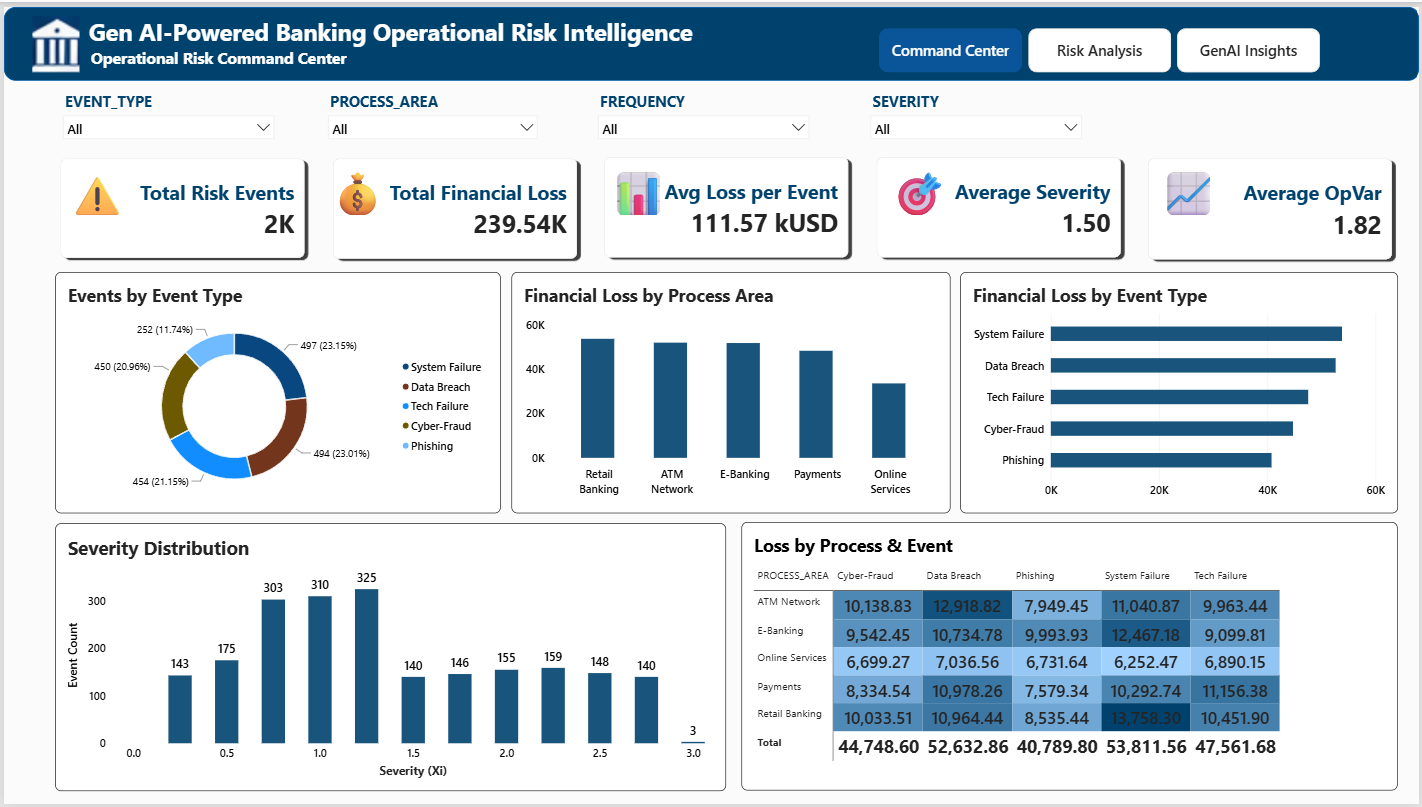

What the dashboard file says about the page in this screenshot:
{"tool":"powerbi","page":{"name":"Command Center","canvas":[1920,1080],"ordinal":0},"visuals":[{"type":"shape","box":[0,0,1920,100],"z":0},{"type":"textbox","box":[0,11.7,1920,88.3],"z":1000},{"type":"image","box":[13.3,11.7,113.3,76.7],"z":2000},{"type":"pageNavigator","box":[1186.7,28.3,600,60],"z":3000},{"type":"slicer","fields":{"Values":["operational risk.EVENT_TYPE"]},"box":[73.7,111.5,300.2,70.1],"z":4000},{"type":"slicer","fields":{"Values":["operational risk.PROCESS_AREA"]},"box":[431.5,111.5,298.4,70.1],"z":5000},{"type":"slicer","fields":{"Values":["operational risk.FREQUENCY_NK"]},"box":[798.2,111.5,300.2,70.1],"z":6000},{"type":"slicer","fields":{"Values":["operational risk.SEVERITY_XI"]},"box":[1168.5,111.5,300.2,70.1],"z":7000},{"type":"cardVisual","fields":{"Data":["operational risk.Total Risk Events"]},"box":[70.1,198,345,149.2],"z":8000},{"type":"cardVisual","fields":{"Data":["operational risk.Total Financial Loss"]},"box":[438.7,197.5,345,150],"z":9000},{"type":"cardVisual","fields":{"Data":["operational risk.Average Severity"]},"box":[1175.7,197,345,150],"z":10000},{"type":"cardVisual","fields":{"Data":["operational risk.Average OpVar"]},"box":[1544.3,197.8,345.2,151],"z":11000},{"type":"cardVisual","fields":{"Data":["operational risk.Average Loss per Event"]},"box":[807.2,196.4,345,150],"z":12000},{"type":"donutChart","title":"Events by Event Type","fields":{"Category":["operational risk.EVENT_TYPE"],"Y":["CountNonNull(operational risk.SCENARIO_ID)"]},"box":[70.1,359.6,604,327.2],"z":13000},{"type":"clusteredBarChart","title":"Financial Loss by Event Type","fields":{"Category":["operational risk.EVENT_TYPE"],"Y":["Sum(operational risk.LOSS_AMOUNT_KUSD)"]},"box":[1296.2,359.6,593.3,327.2],"z":14000},{"type":"clusteredColumnChart","title":"Financial Loss by Process Area","fields":{"Category":["operational risk.PROCESS_AREA"],"Y":["Sum(operational risk.LOSS_AMOUNT_KUSD)"]},"box":[688.5,359.6,595.1,327.2],"z":15000},{"type":"clusteredColumnChart","title":"Severity Distribution","fields":{"Category":["operational risk.SEVERITY_XI (bins)"],"Y":["CountNonNull(operational risk.SCENARIO_ID)"]},"box":[70.1,699.3,909.7,363.1],"z":16000},{"type":"textbox","box":[86.3,210.3,75,100],"z":17000},{"type":"textbox","box":[438.7,210.3,82.7,100.7],"z":18000},{"type":"textbox","box":[819.8,210.3,125.8,100.7],"z":19000},{"type":"textbox","box":[1200.9,210.3,107.9,100.7],"z":20000},{"type":"textbox","box":[1565.8,210.3,75,100],"z":21000},{"type":"pivotTable","title":"Loss by Process & Event ","fields":{"Columns":["operational risk.EVENT_TYPE"],"Rows":["operational risk.PROCESS_AREA"],"Values":["Sum(operational risk.LOSS_AMOUNT_KUSD)"]},"box":[1000,698.2,889.3,364.3],"z":22000}]}

Visuals, with their boxes in screenshot pixels (x1, y1, x2, y2), scaled from the page's 1920x1080 canvas onto the 1422x807 screenshot:
shape: 0, 0, 1421, 75
textbox: 0, 9, 1421, 75
image: 10, 9, 94, 66
pageNavigator: 879, 21, 1323, 66
slicer - operational risk.EVENT_TYPE: 55, 83, 277, 136
slicer - operational risk.PROCESS_AREA: 320, 83, 541, 136
slicer - operational risk.FREQUENCY_NK: 591, 83, 814, 136
slicer - operational risk.SEVERITY_XI: 865, 83, 1088, 136
cardVisual - operational risk.Total Risk Events: 52, 148, 307, 259
cardVisual - operational risk.Total Financial Loss: 325, 148, 580, 260
cardVisual - operational risk.Average Severity: 871, 147, 1126, 259
cardVisual - operational risk.Average OpVar: 1144, 148, 1399, 261
cardVisual - operational risk.Average Loss per Event: 598, 147, 853, 259
"Events by Event Type" donutChart: 52, 269, 499, 513
"Financial Loss by Event Type" clusteredBarChart: 960, 269, 1399, 513
"Financial Loss by Process Area" clusteredColumnChart: 510, 269, 951, 513
"Severity Distribution" clusteredColumnChart: 52, 523, 726, 794
textbox: 64, 157, 119, 232
textbox: 325, 157, 386, 232
textbox: 607, 157, 700, 232
textbox: 889, 157, 969, 232
textbox: 1160, 157, 1215, 232
"Loss by Process & Event " pivotTable: 741, 522, 1399, 794
